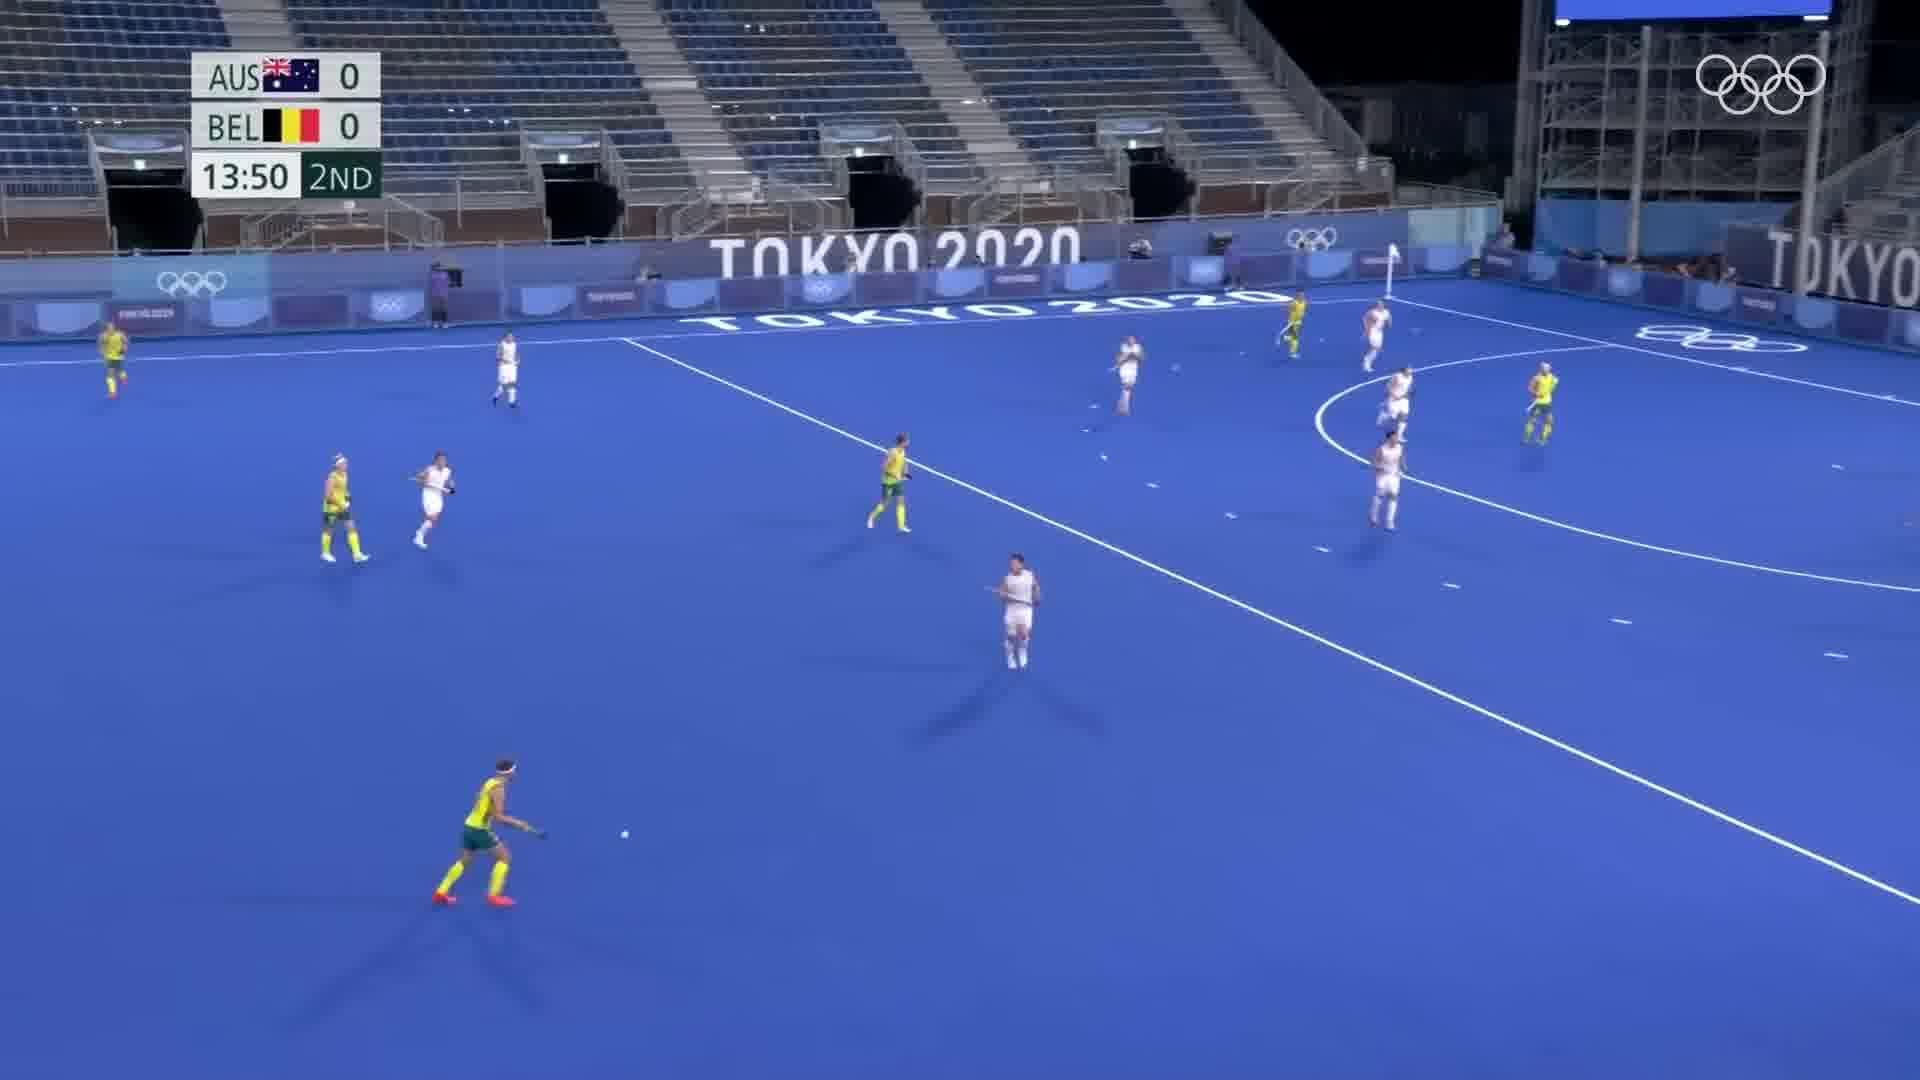ball: (608, 822, 641, 851)
